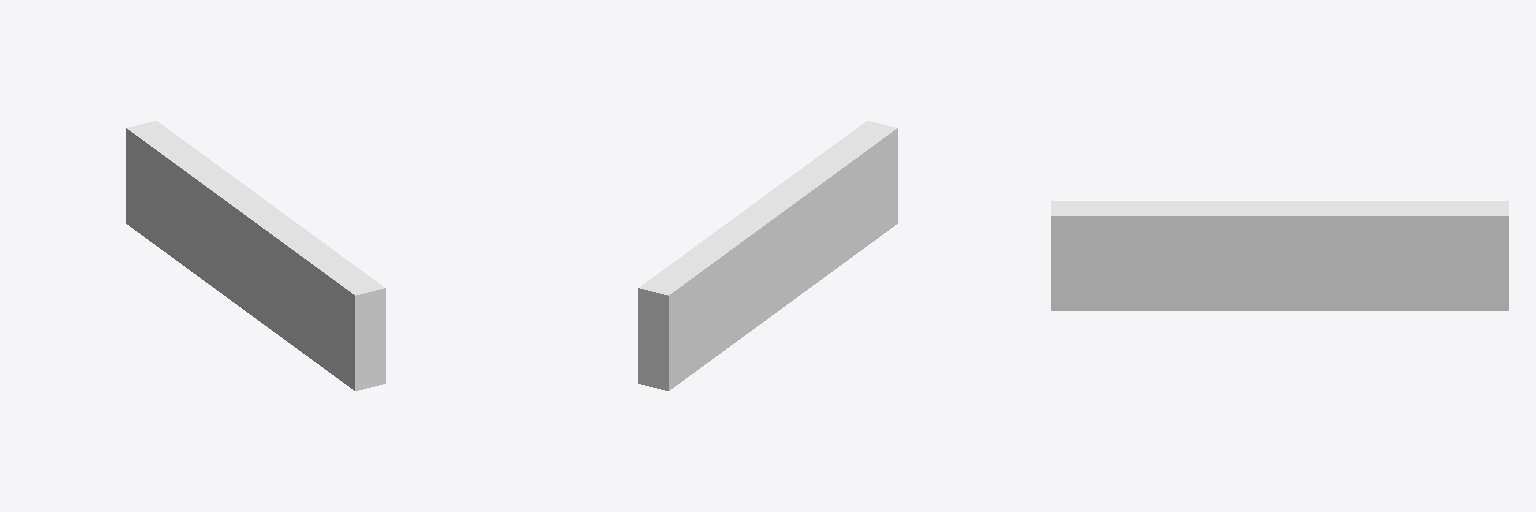
File: Nha-6.obj
3 renders of one model, left to right at view 1: azimuth 30°, elevation 25°; view 2: azimuth 150°, elevation 25°; view 3: azimuth 270°, elevation 25°, orthographic.
Parts seen in each view (by area): view 1: object 1; view 2: object 1; view 3: object 1.
Boxes of the visible parts, x1=… form: object 1: x1=126, y1=121, x2=385, y2=390; object 1: x1=638, y1=121, x2=897, y2=390; object 1: x1=1051, y1=201, x2=1508, y2=310.
Size of the model in its own units: 0.1 by 0.3 by 1.3.